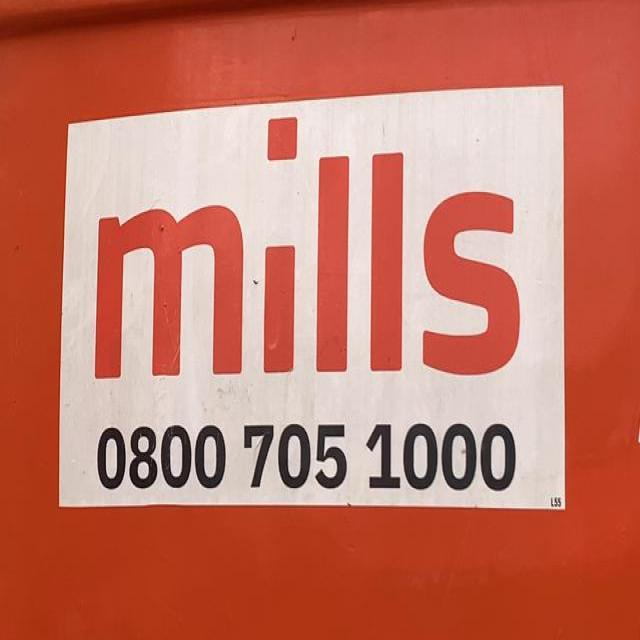Adesivos: (50, 63, 583, 533)
